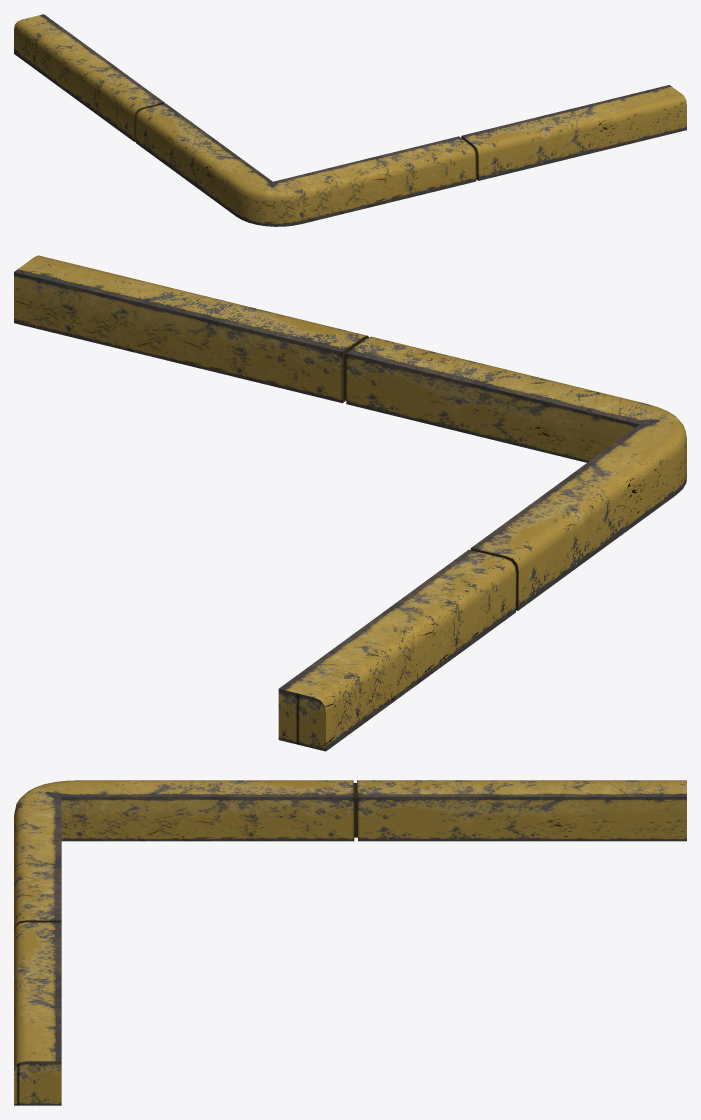
Rendered from Kit_Walkway_L.fbx.
3 renders of one model, top to bottom at view 1: azimuth 30°, elevation 25°; view 2: azimuth 150°, elevation 25°; view 3: azimuth 270°, elevation 25°, orthographic. The views are drawn at different scales.
Visible parts, largest first — view 1: Kit_Walkway_L; view 2: Kit_Walkway_L; view 3: Kit_Walkway_L.
Part boxes in pixels (<box>): Kit_Walkway_L: <box>14,14,686,226</box>; Kit_Walkway_L: <box>14,255,686,751</box>; Kit_Walkway_L: <box>14,780,686,1105</box>.
Bounding box in the file's own units: 167 × 12.14 × 167.
